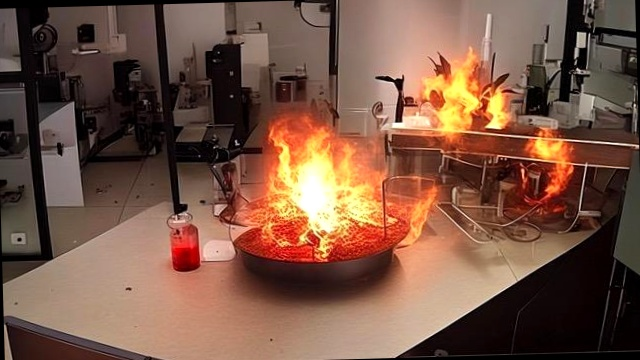fire: (220, 92, 409, 263), (408, 43, 598, 192)
